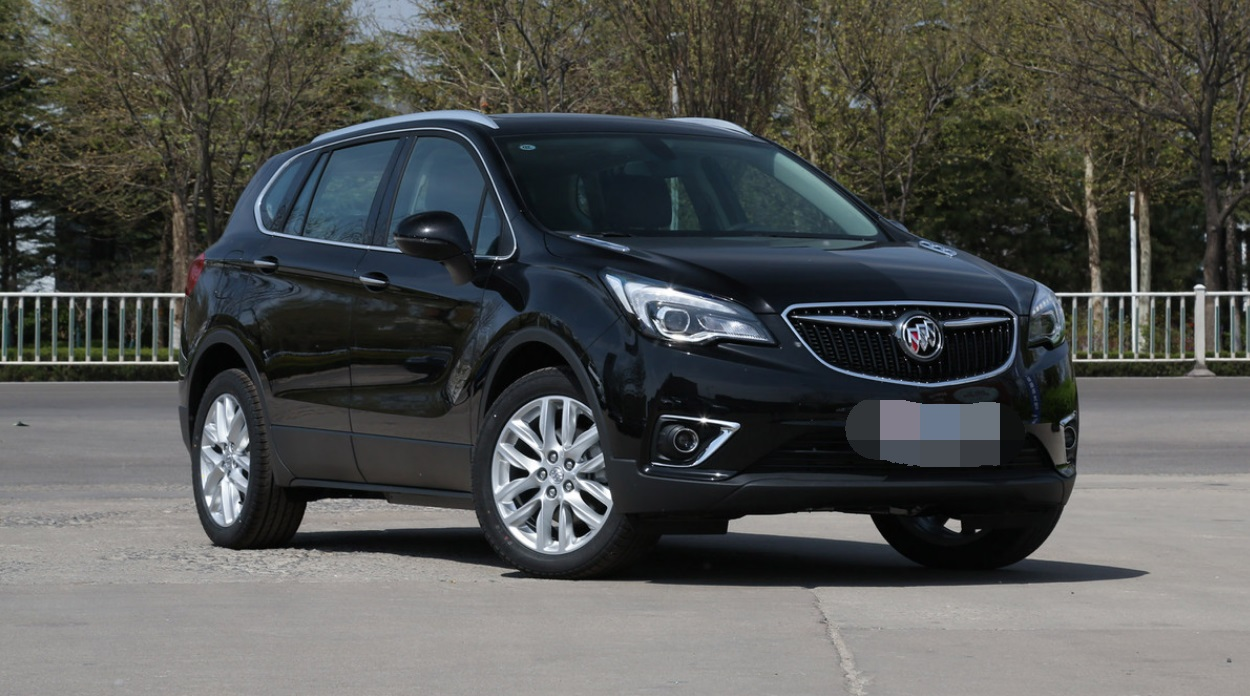SUV: (175, 102, 1086, 586)
